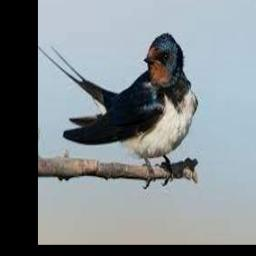Swallow: (38, 33, 197, 184)
